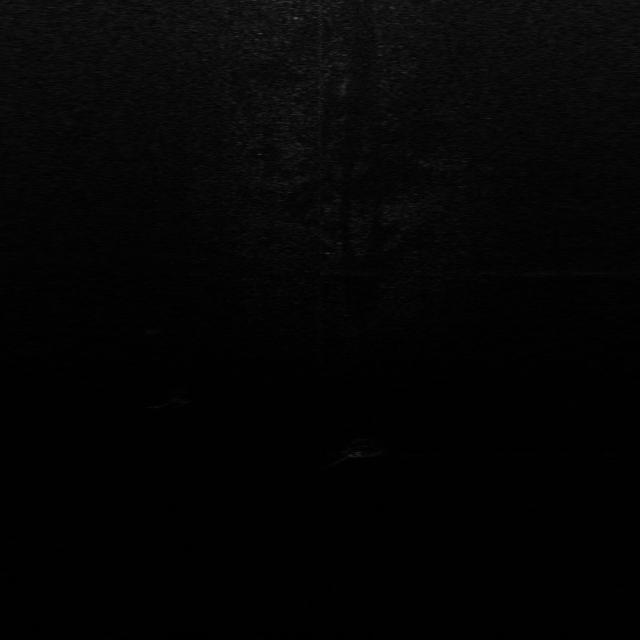ball: (166, 388, 197, 407)
circle cage: (140, 318, 170, 334)
tyre: (341, 438, 382, 457)
